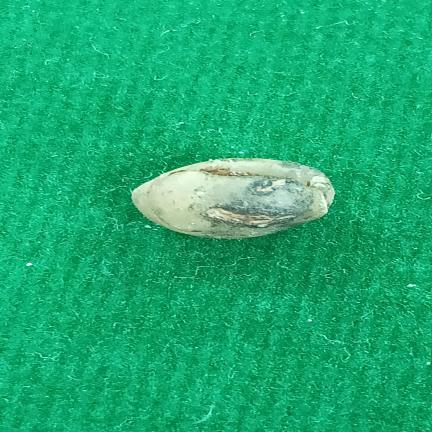partial-black: (132, 158, 334, 239)
